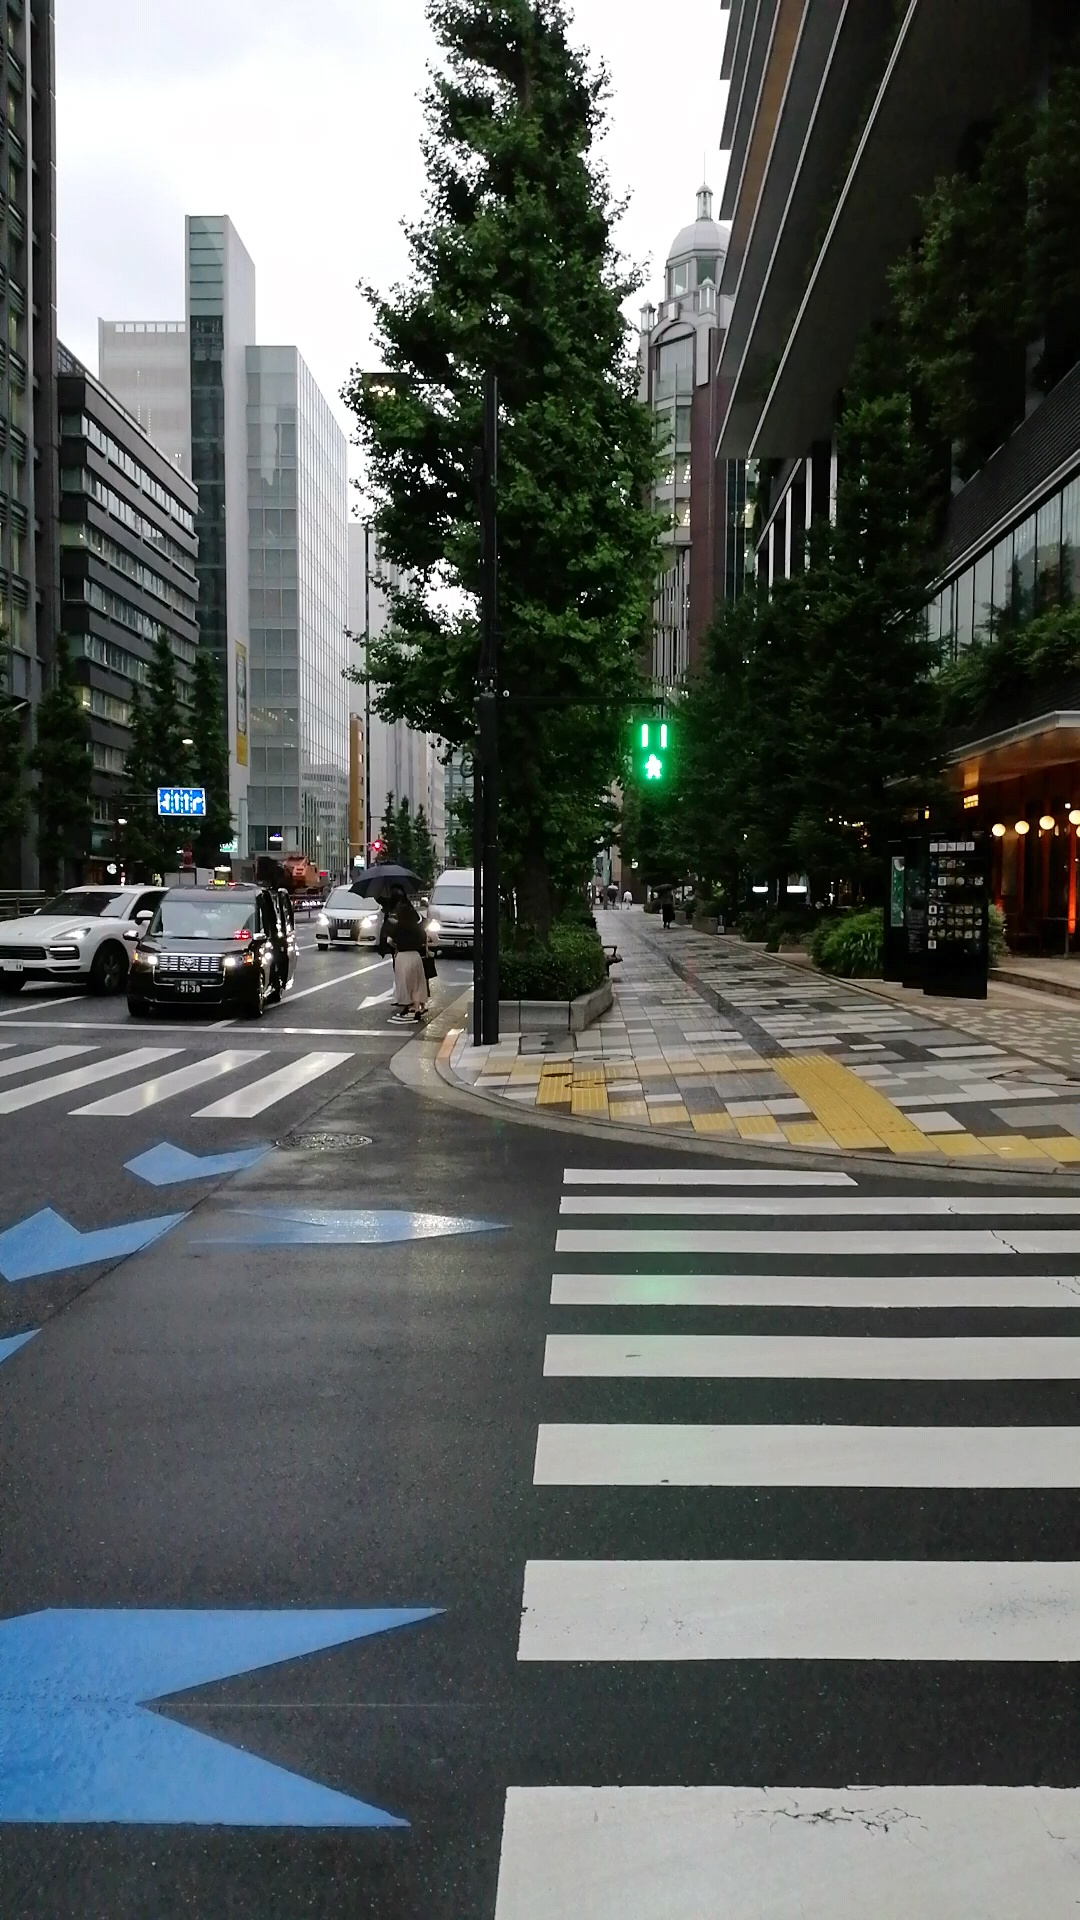green: (632, 717, 674, 790)
